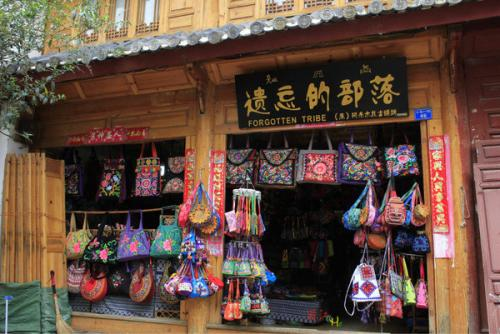chinese: (243, 74, 401, 116)
naxi: (254, 63, 378, 82)
